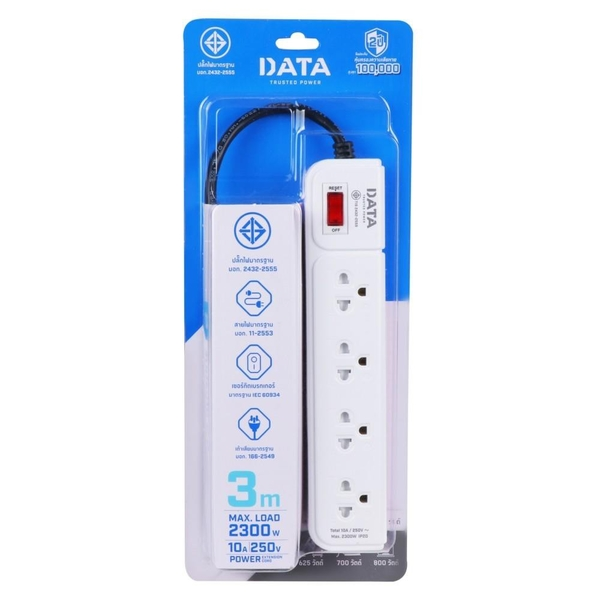Three_eye_plug: (292, 146, 394, 568)
